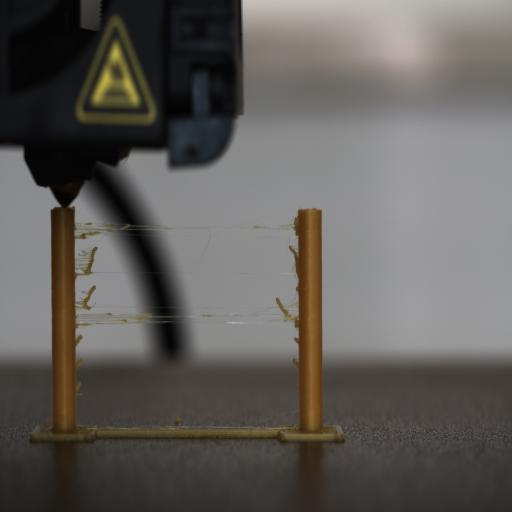stringing: (280, 228, 300, 313), (78, 227, 118, 253), (194, 226, 212, 262), (282, 213, 298, 230), (288, 245, 298, 271), (74, 334, 82, 347), (75, 357, 83, 369), (293, 358, 299, 369)
